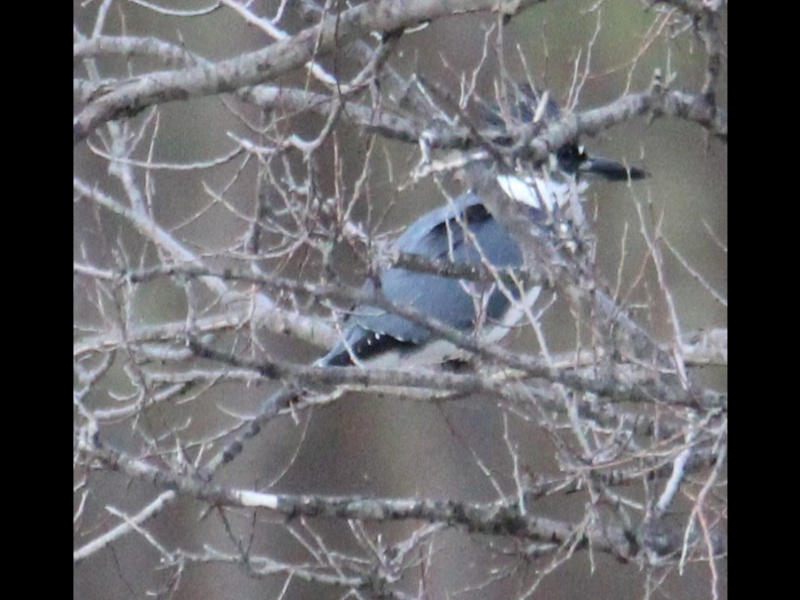kingfisher: (303, 82, 650, 416)
